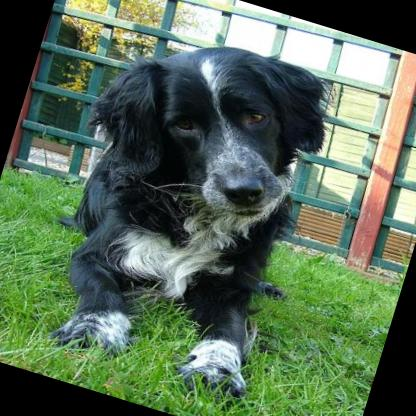English_springer: (16, 7, 347, 407)
